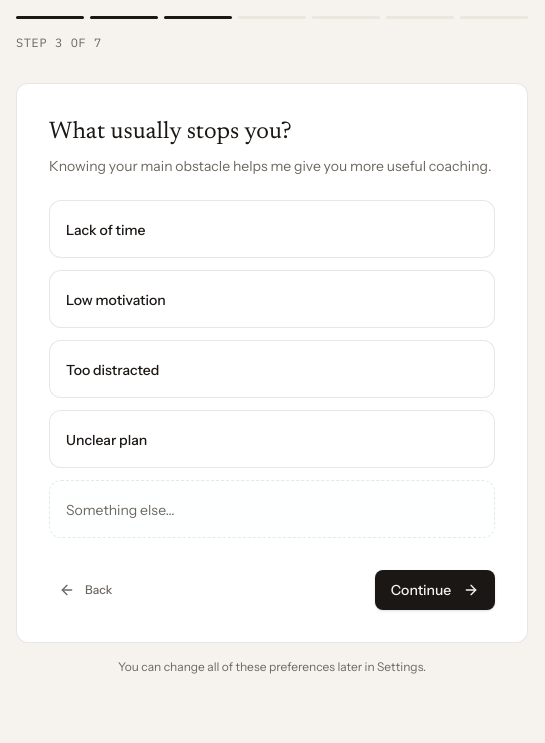
Test: OnboardingClient › step 3: blocker › clicking "Something else…" reveals the free-text input
Click the button "Something else…" at [120, 510], box [49,480,495,538]
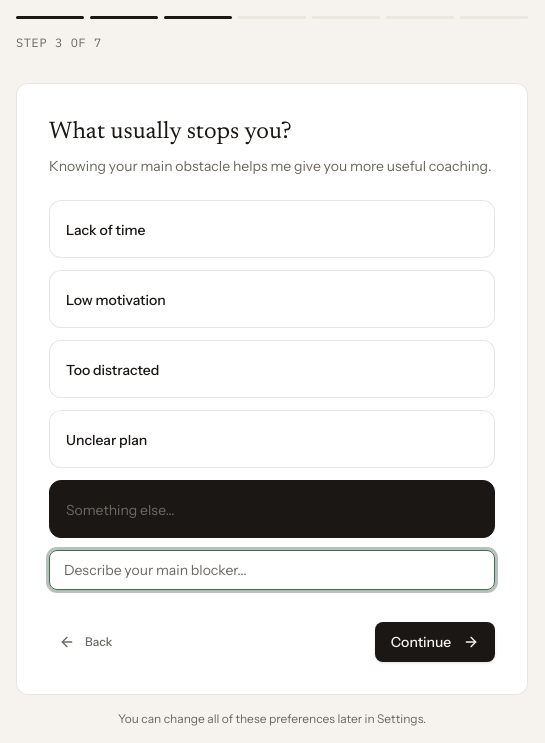
Result: the field with placeholder "Describe your main blocker..." is shown at [49,550,495,590]
